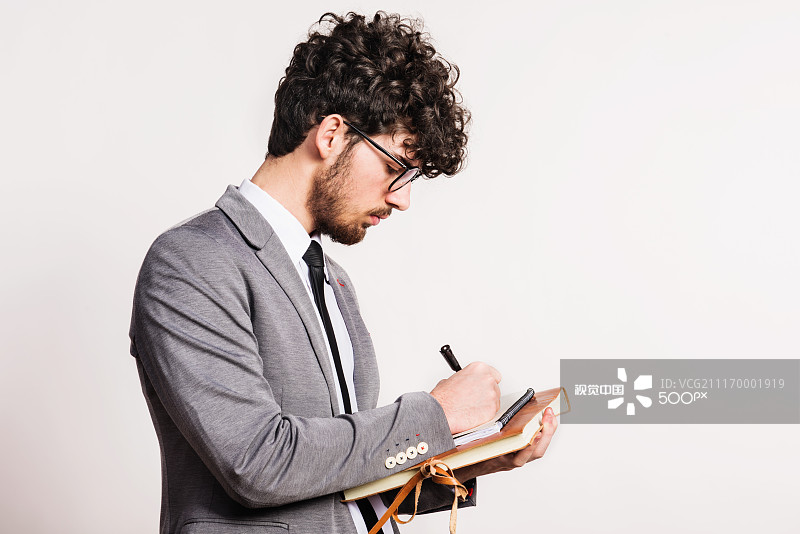no-phone: (464, 400, 563, 497), (406, 342, 510, 433)
